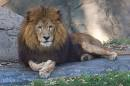lion: (18, 9, 118, 77)
